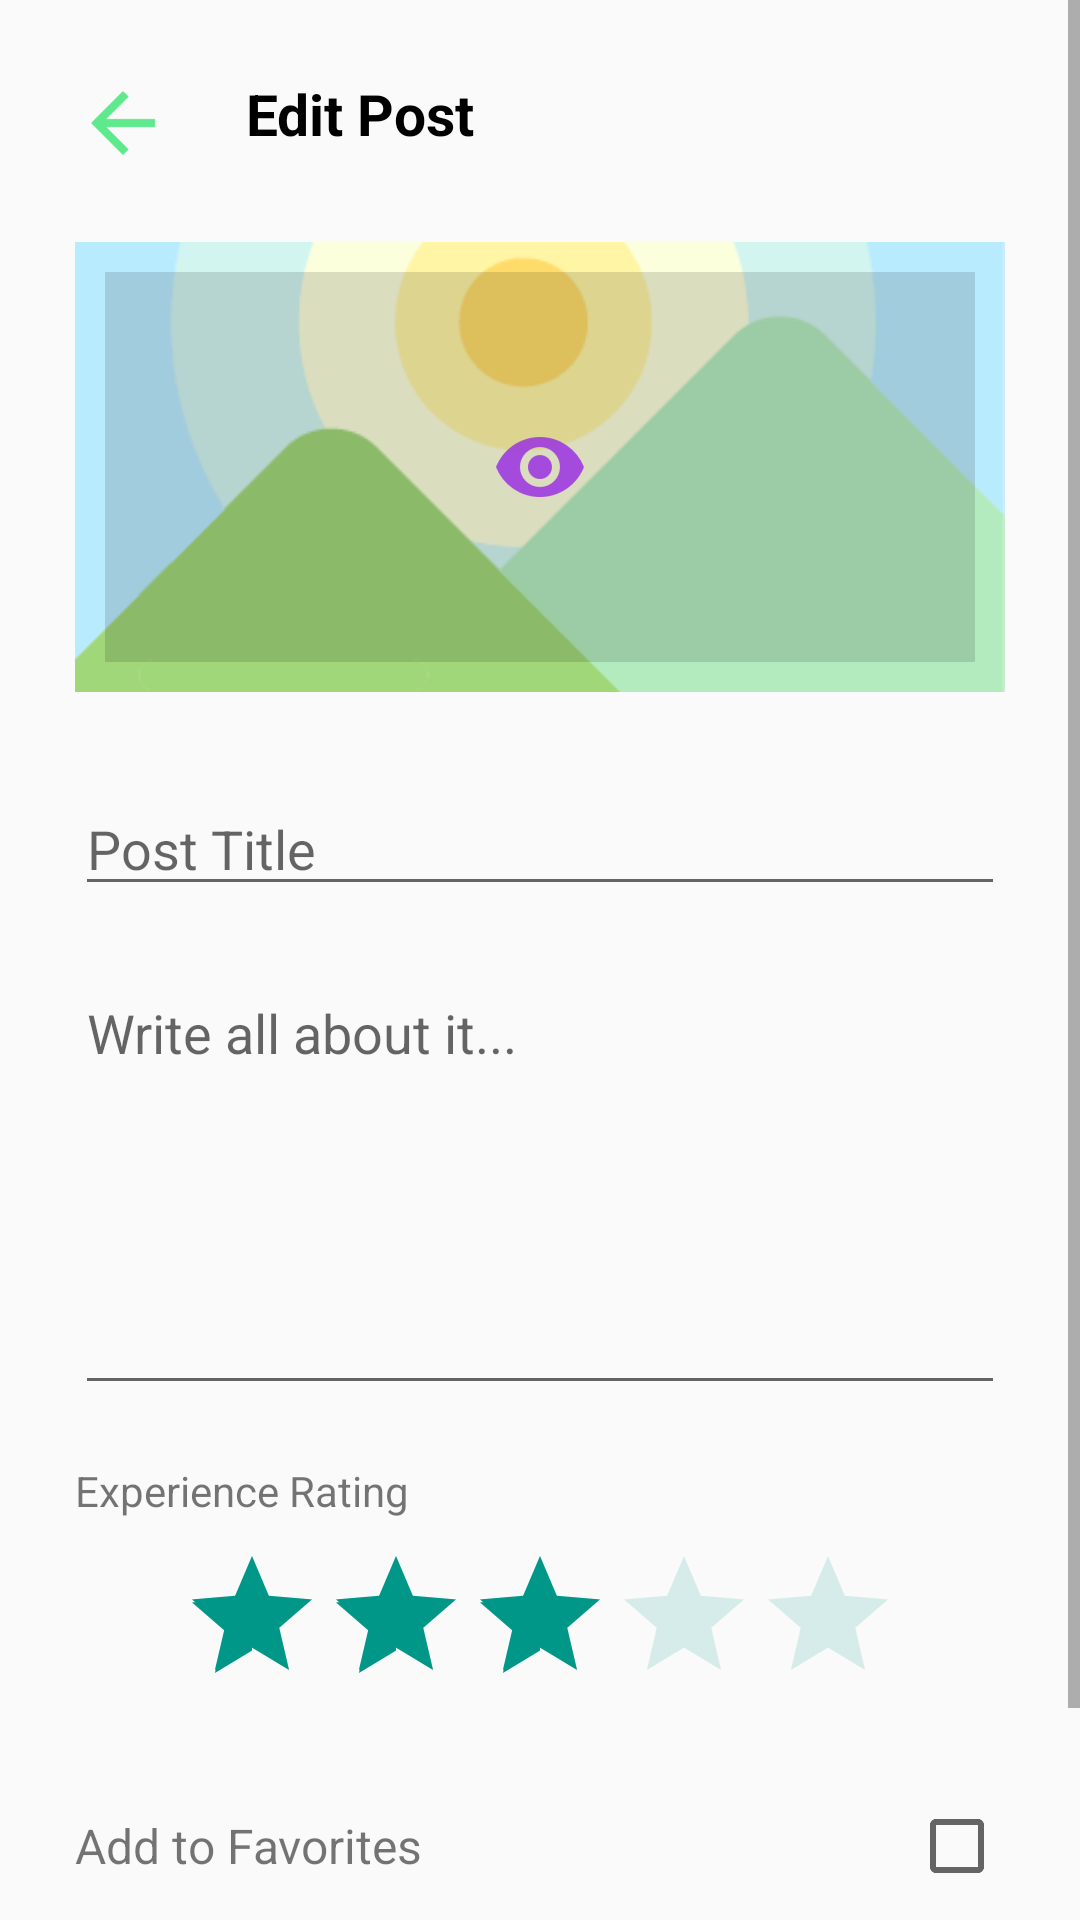

Icons on this 1080 × 1920 Android screen, each with the point to tap as [x,y]:
back: [123,123]
